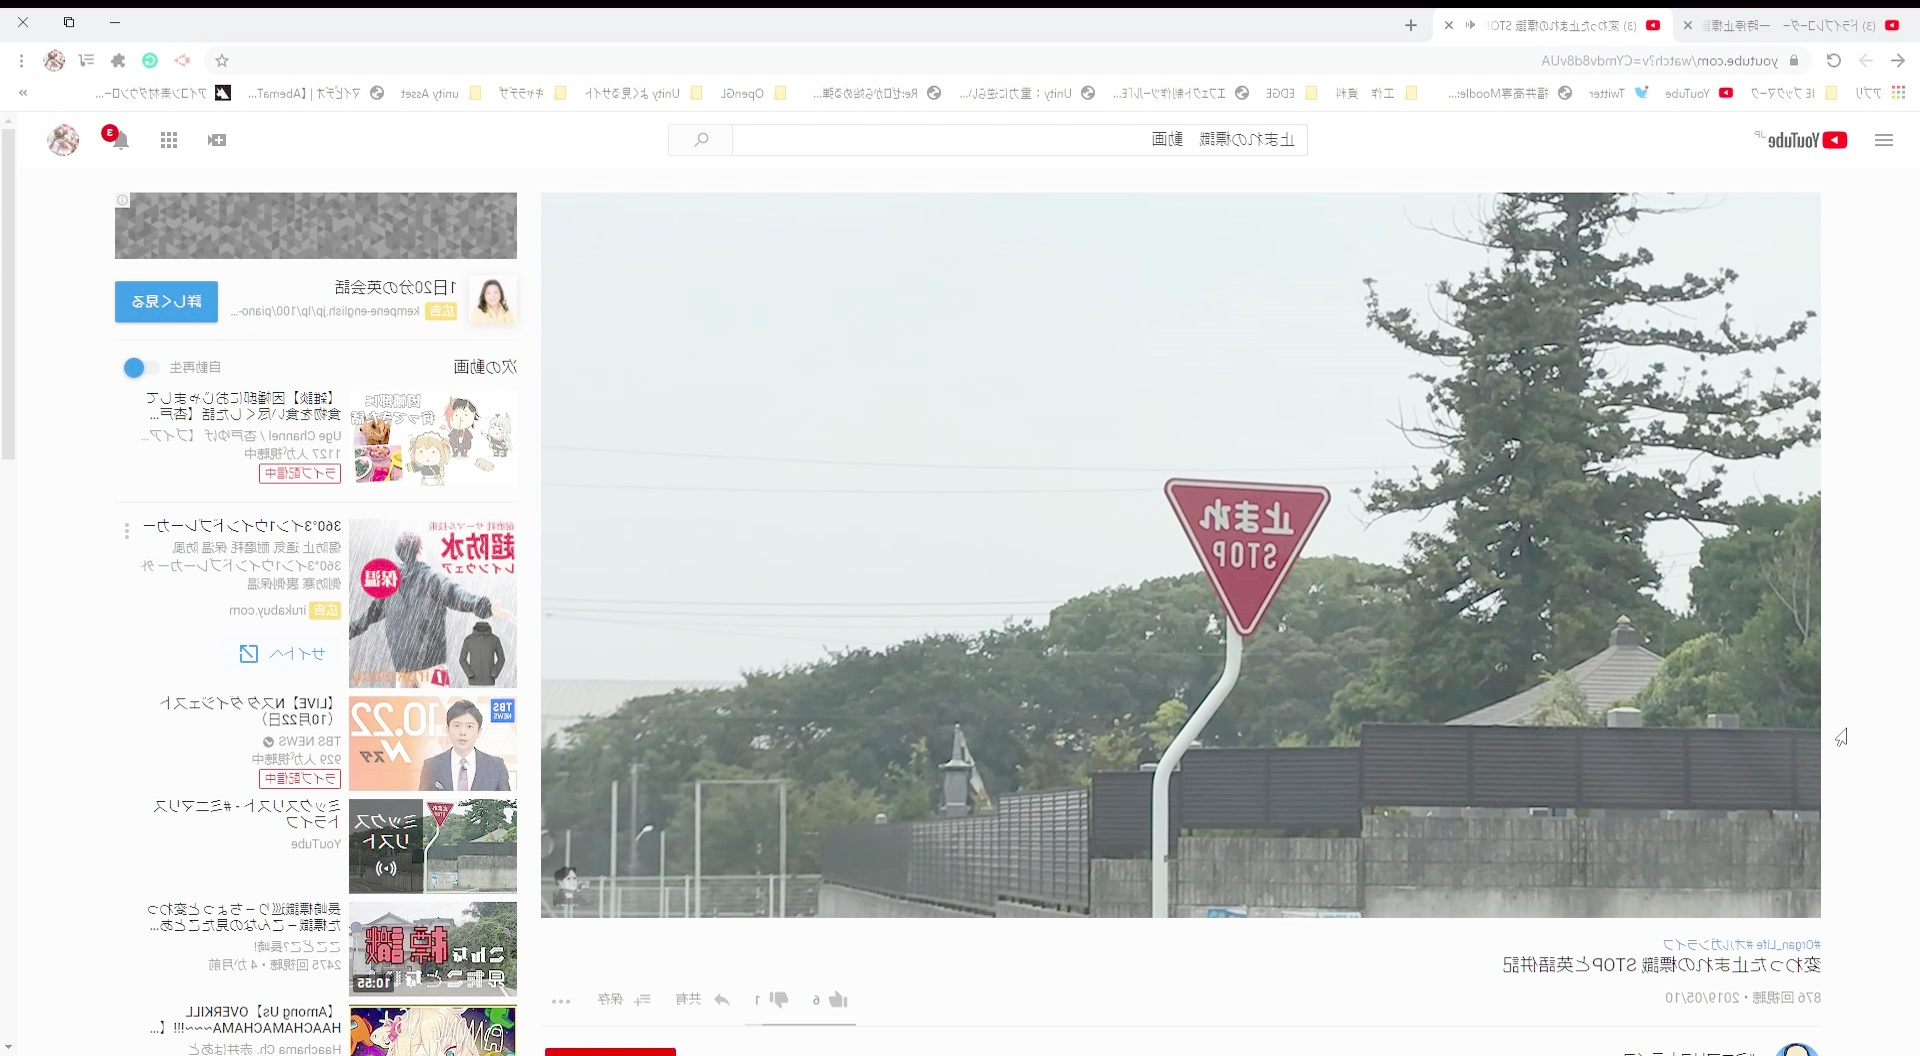Regulatory_sign_triangle: (1157, 459, 1329, 650)
